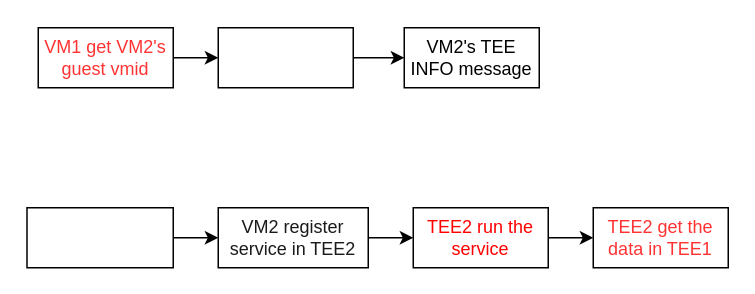
Some shapes in this 755 by 294 pixel diagram are drawn without their labels. Each missing label, with the box of its shape:
VM1 register service to VM2's TEE: (217, 26, 353, 88)
VM1 send data to TEE1: (26, 206, 173, 268)
